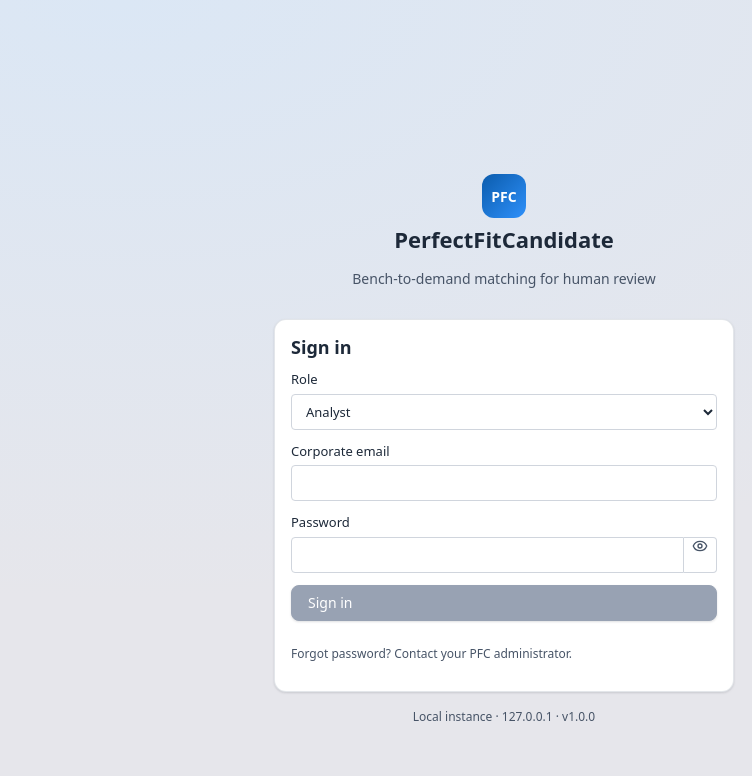
Test: sign-in lockout (REQ-AUTH-04) › shows a plain lockout message without an expiry
This screenshot has width=752, height=776.
Step 1. Type "olivia.admin@example.com" into the field labelled "Corporate email" → (504,483), box top-left (291, 465), bottom-right (717, 501)
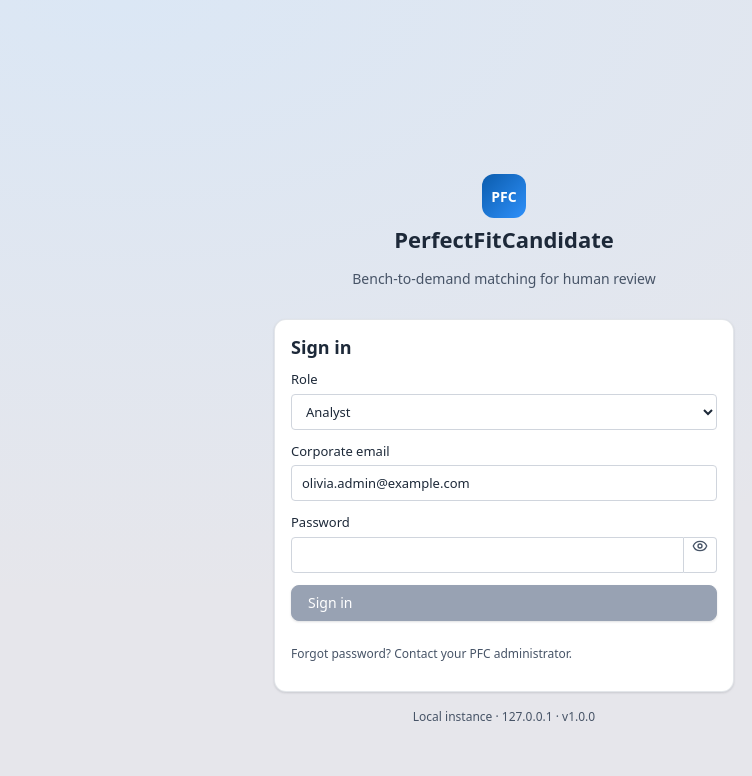
Step 2. Type "wrong" into the password field labelled "Password" → (488,555), box top-left (291, 537), bottom-right (684, 573)
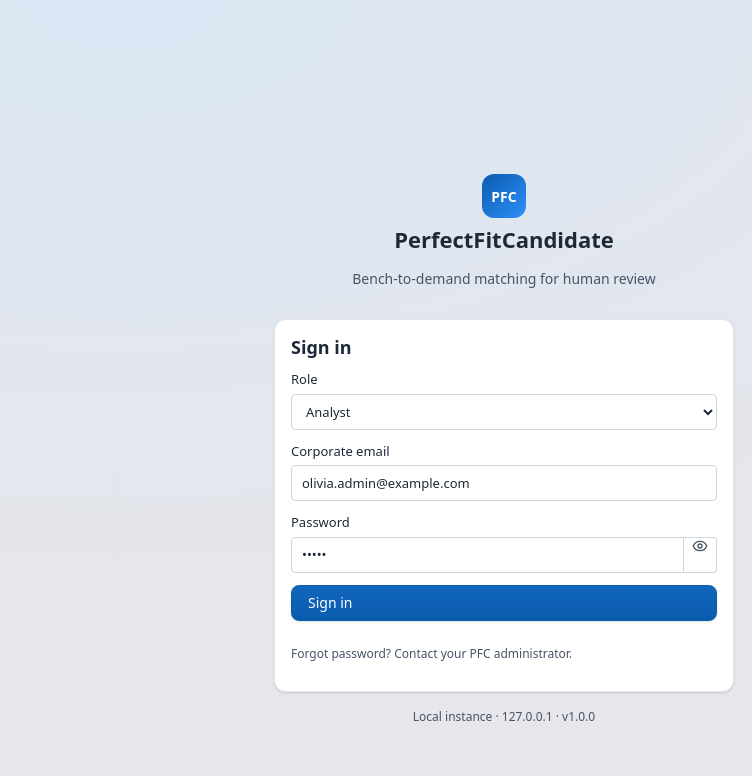
Step 3. Click the button "Sign in" → (330,603), box top-left (291, 585), bottom-right (717, 621)
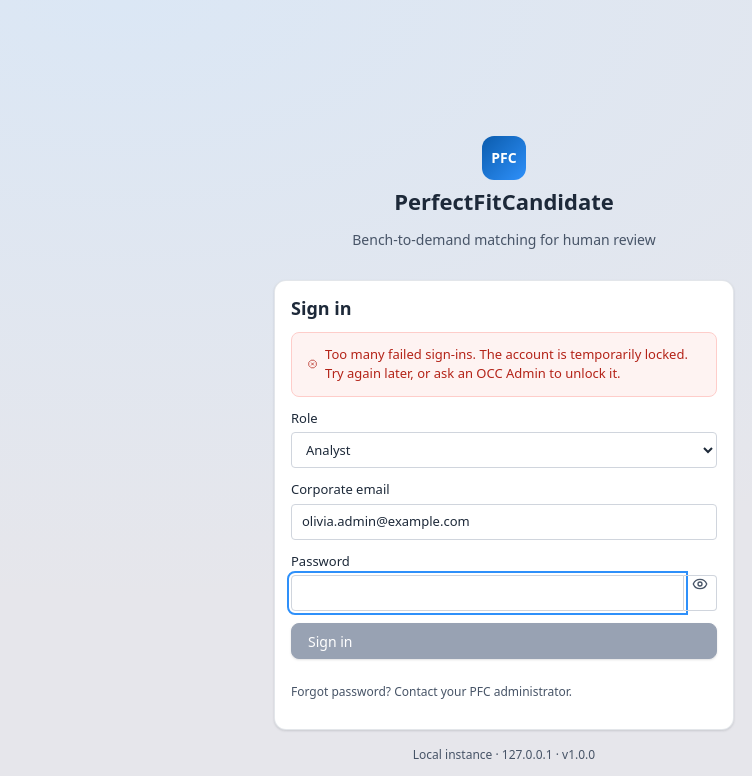
Check: the text "The account is temporarily locked. Try again later" is shown, box top-left (325, 345), bottom-right (688, 382)
